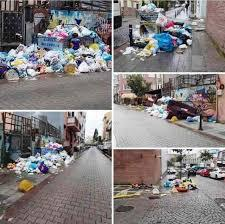Container: (38, 34, 72, 47)
Garbage: (6, 49, 56, 87), (0, 54, 74, 77), (83, 37, 101, 76), (159, 32, 178, 52), (143, 41, 162, 59), (26, 160, 50, 174), (10, 159, 25, 175), (47, 28, 66, 39), (51, 154, 65, 168), (156, 16, 168, 29), (150, 111, 161, 122)
